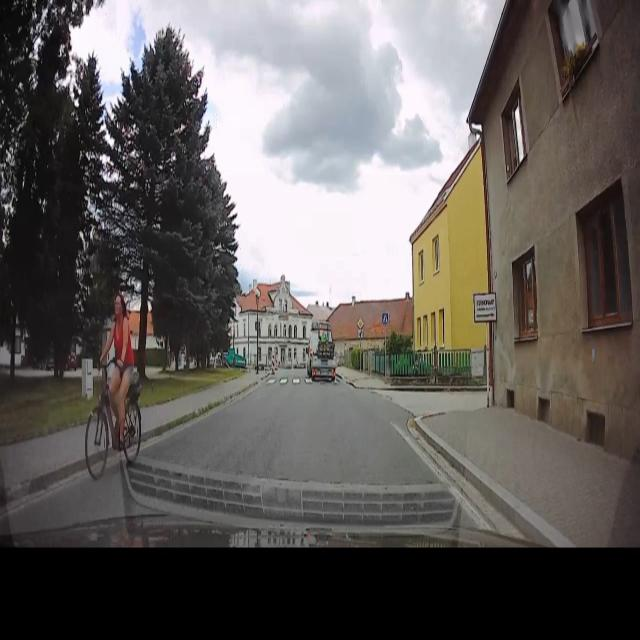Car: (307, 322, 338, 384)
Pedestrian crosswalk: (382, 311, 390, 327)
